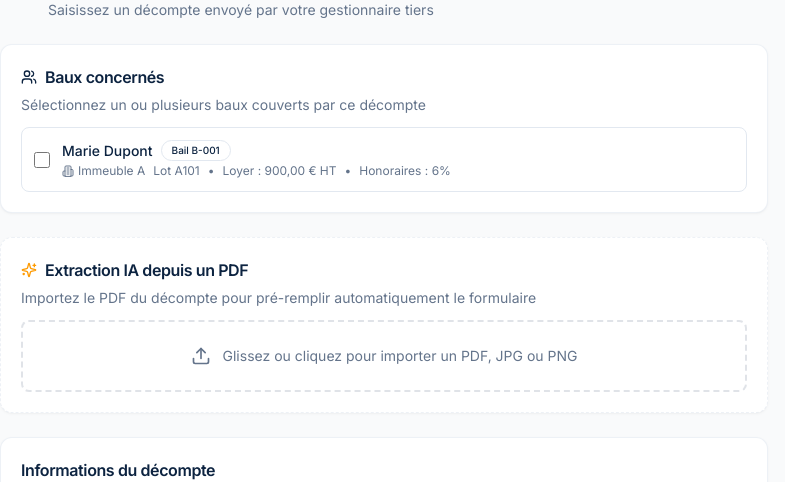
Test: NouveauDecompteGestionPage › monte la page sans boucle de rendu avec des baux tiers
The image size is (785, 482).
expect the text "Marie Dupont" is shown: met, box [62,140,153,160]
expect the text "Bail B-001" is shown: met, box [161,140,231,161]
Click the checkbox named "sélectionner le bail marie dupont".
click(42, 160)  # box [34,152,50,168]
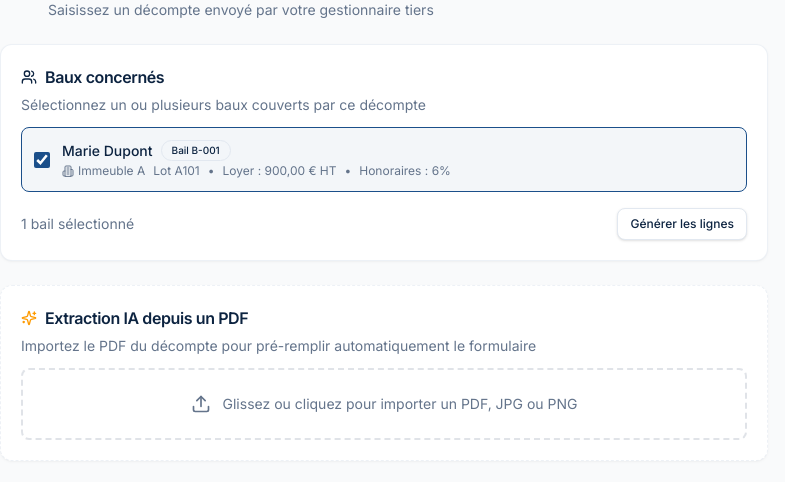
expect the text "1 bail sélectionné" is shown: met, box [21,214,134,234]
Click the button "Générer les lignes".
click(682, 224)  # box [618,208,747,240]
(page scrolled)
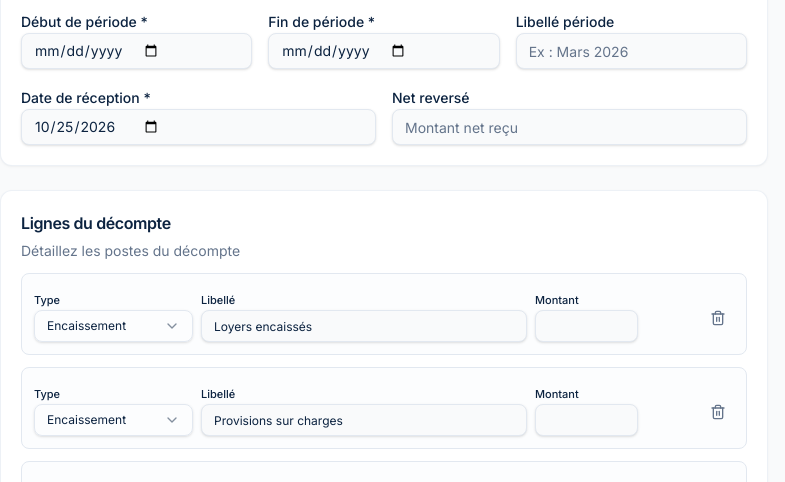
expect the 1st field showing "Loyers encaissés" is shown: met, box [201,310,527,342]
